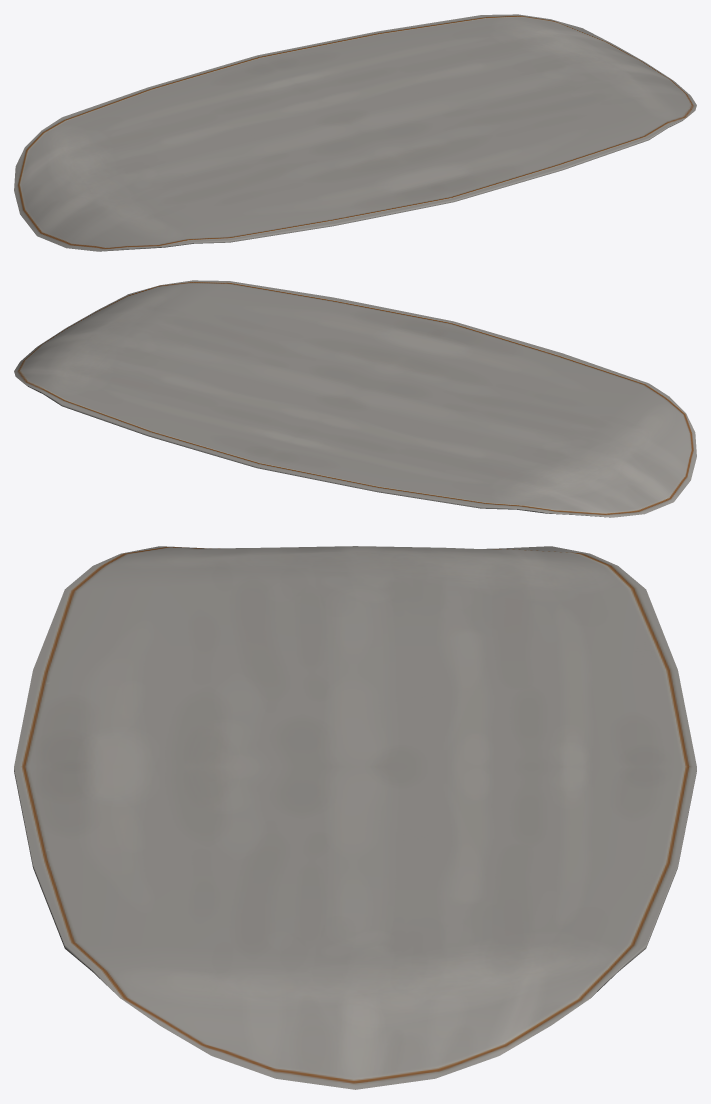
Rendered from TableCloth_Oval.fbx.
3 renders of one model, top to bottom at view 1: azimuth 30°, elevation 25°; view 2: azimuth 150°, elevation 25°; view 3: azimuth 270°, elevation 25°, orthographic. The views are drawn at different scales.
Visible parts, largest first — view 1: TableCloth_Oval2; view 2: TableCloth_Oval2; view 3: TableCloth_Oval2.
Boxes of the visible parts, box(x1,y1,x2,y2) form: TableCloth_Oval2: box(14, 14, 696, 251); TableCloth_Oval2: box(14, 280, 696, 517); TableCloth_Oval2: box(14, 546, 696, 1089).
Size of the model in its own units: 21.83 by 1.05 by 11.69.
